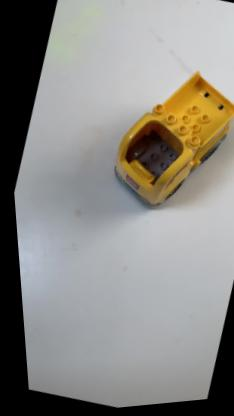yellow dump truck: (91, 52, 233, 236)
